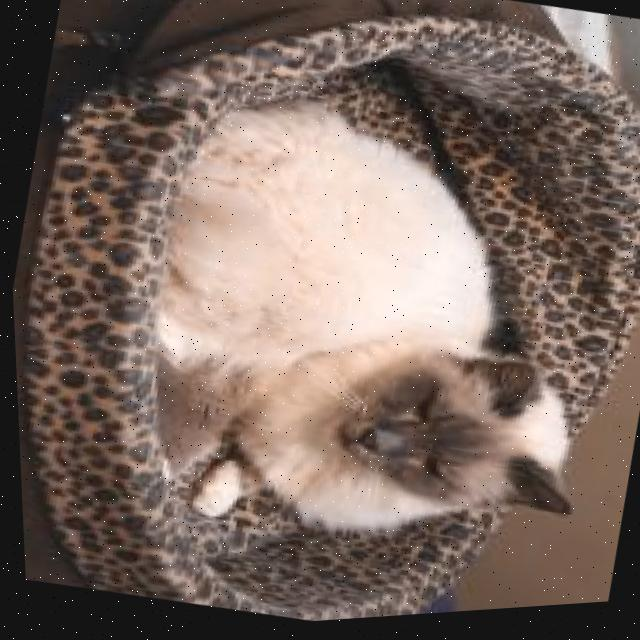Birman: (104, 67, 640, 602)
